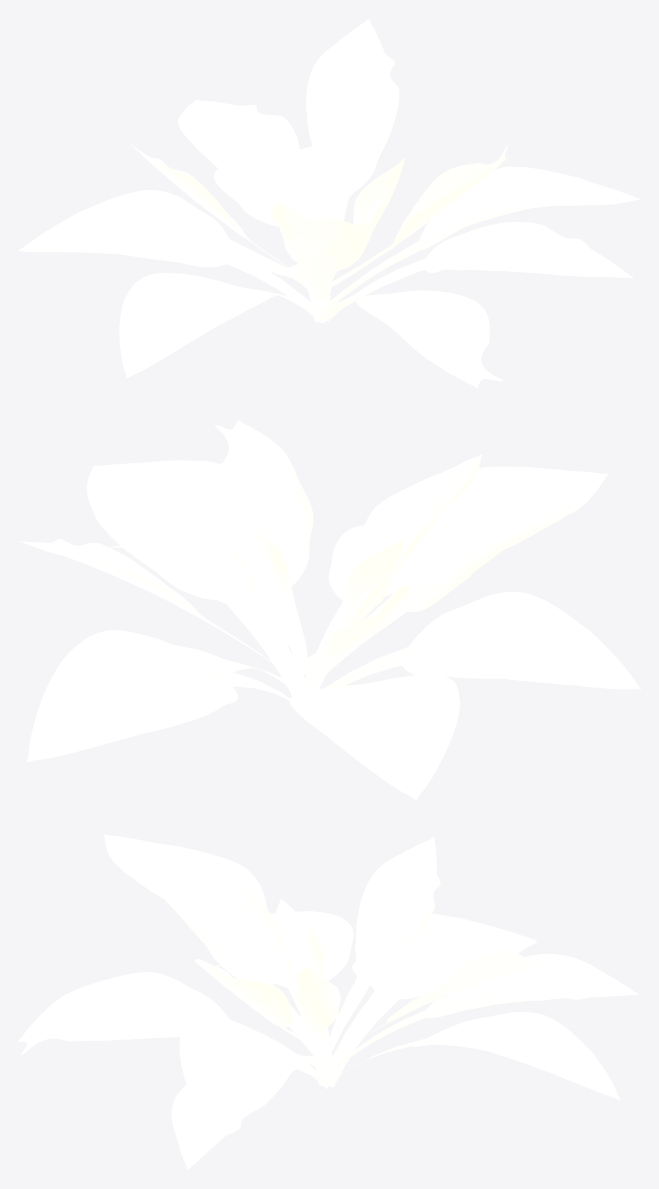
The picture shows the model from 3 angles, top to bottom: view 1: azimuth 30°, elevation 25°; view 2: azimuth 150°, elevation 25°; view 3: azimuth 270°, elevation 25°; orthographic projection. The views are drawn at different scales.
Parts seen in each view (by area): view 1: SM_DR_Sm_Plant_04_LOD0; view 2: SM_DR_Sm_Plant_04_LOD0; view 3: SM_DR_Sm_Plant_04_LOD0.
Boxes of the visible parts, left/top/right/bottom form: SM_DR_Sm_Plant_04_LOD0: left=18, top=19, right=640, bottom=387; SM_DR_Sm_Plant_04_LOD0: left=19, top=420, right=640, bottom=799; SM_DR_Sm_Plant_04_LOD0: left=18, top=834, right=638, bottom=1169.
Bounding box in the file's own units: 0.7938 × 0.291 × 0.8443.
1 material, 1 textured.
